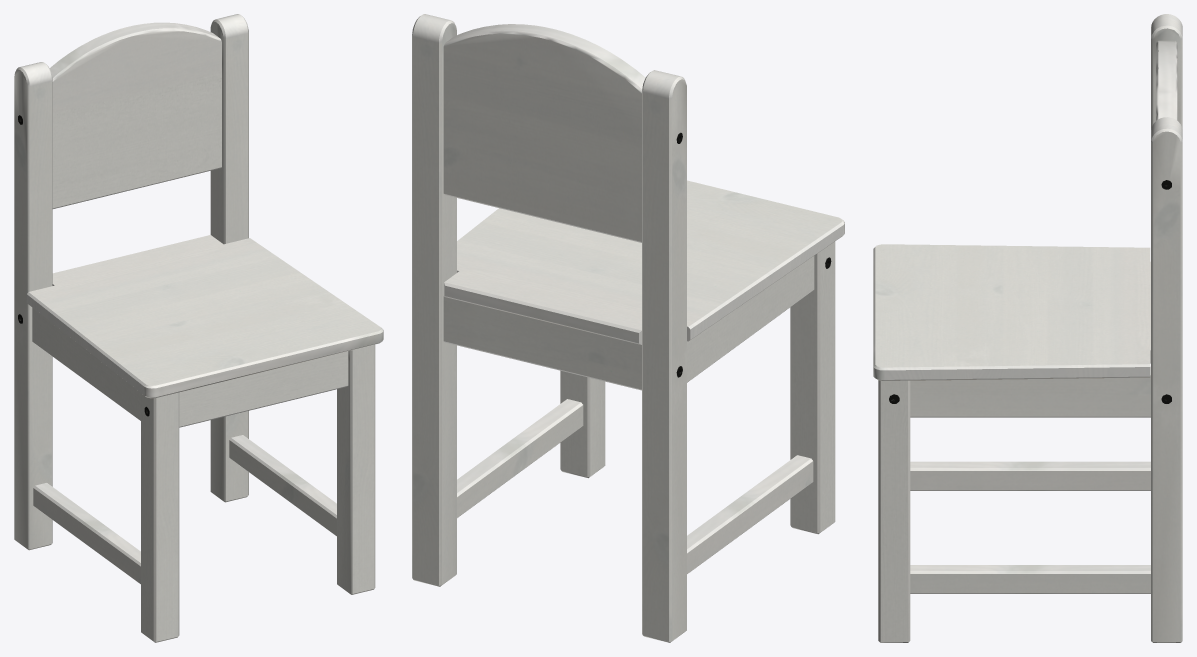
File: 10 - SUNDVIK Children_s chair - white.glb
3 renders of one model, left to right at view 1: azimuth 30°, elevation 25°; view 2: azimuth 150°, elevation 25°; view 3: azimuth 270°, elevation 25°, orthographic. The views are drawn at different scales.
Parts seen in each view (by area): view 1: Mesh_0; view 2: Mesh_0; view 3: Mesh_0.
Part boxes in pixels (x1,y1,x2,y2): Mesh_0: [14, 14, 383, 642]; Mesh_0: [412, 14, 844, 642]; Mesh_0: [873, 14, 1182, 642].
Bounding box in the file's own units: 0.2794 × 0.5483 × 0.292.
1 material, 1 textured.
